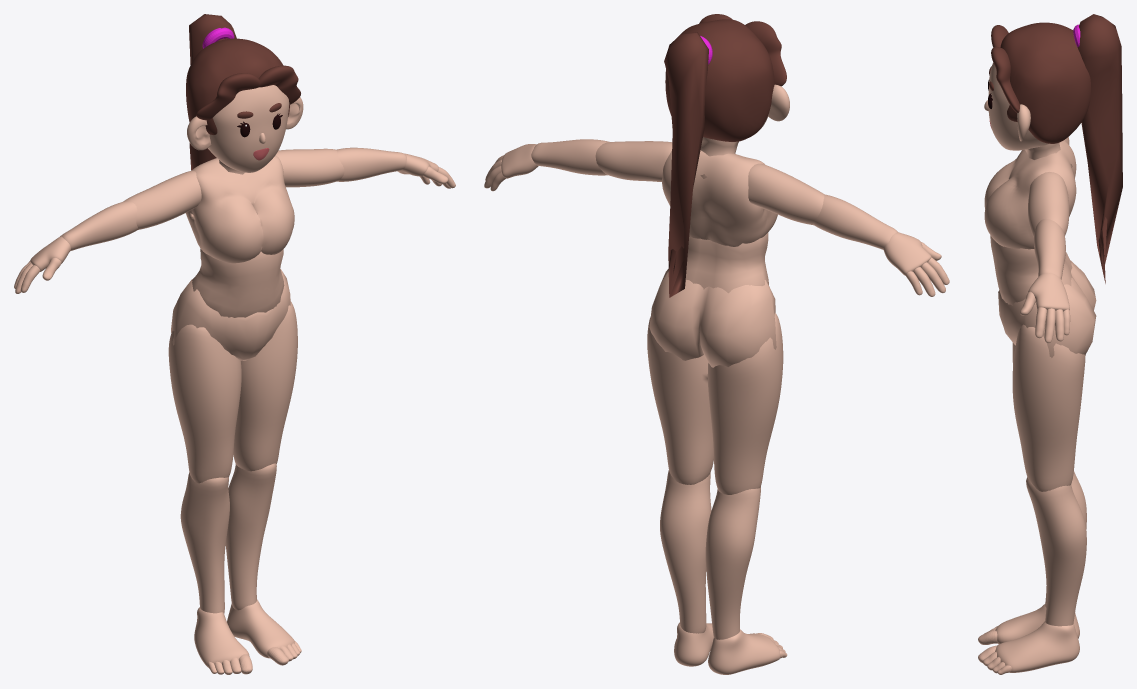
The model's file is female_model5.glb.
The picture shows the model from 3 angles, left to right: view 1: azimuth 30°, elevation 25°; view 2: azimuth 150°, elevation 25°; view 3: azimuth 270°, elevation 25°; orthographic projection. The views are drawn at different scales.
Visible parts, largest first — view 1: leg.003, chest 1.003, foot.003, arm.003, head.004, pelvis.003, arm 2.003, Icosphere.007, hand.003, Cube.016, Icosphere.008, ears.004; view 2: leg.003, chest 1.003, pelvis.003, Icosphere.007, Icosphere.008, arm.003, arm 2.003, hand.003, foot.003, Cube.016; view 3: leg.003, Icosphere.007, Icosphere.008, chest 1.003, foot.003, pelvis.003, hand.003, arm.003, head.004, arm 2.003, Cube.016, ears.004 (+1 smaller).
Boxes of the visible parts, <box> form: leg.003: <box>168,301,297,613</box>; chest 1.003: <box>185,155,294,317</box>; foot.003: <box>194,599,301,674</box>; arm.003: <box>123,148,344,229</box>; head.004: <box>208,85,289,172</box>; pelvis.003: <box>171,269,290,360</box>; arm 2.003: <box>60,147,406,250</box>; Icosphere.007: <box>186,38,289,134</box>; hand.003: <box>14,153,455,293</box>; Cube.016: <box>196,65,300,120</box>; Icosphere.008: <box>189,14,236,170</box>; ears.004: <box>187,97,303,150</box>; leg.003: <box>647,313,783,639</box>; chest 1.003: <box>662,150,777,293</box>; pelvis.003: <box>649,269,776,367</box>; Icosphere.007: <box>665,19,774,141</box>; Icosphere.008: <box>664,32,708,297</box>; arm.003: <box>595,141,824,225</box>; arm 2.003: <box>531,139,897,249</box>; hand.003: <box>484,144,949,296</box>; foot.003: <box>674,622,787,674</box>; Cube.016: <box>699,14,786,86</box>; leg.003: <box>1012,324,1086,626</box>; Icosphere.007: <box>1000,22,1090,143</box>; Icosphere.008: <box>1077,14,1122,283</box>; chest 1.003: <box>984,140,1076,305</box>; foot.003: <box>978,604,1079,674</box>; pelvis.003: <box>998,260,1096,357</box>; hand.003: <box>1020,273,1070,343</box>; arm.003: <box>1028,137,1069,237</box>; head.004: <box>988,62,1048,150</box>; arm 2.003: <box>1034,218,1065,279</box>; Cube.016: <box>991,25,1019,112</box>; ears.004: <box>1017,104,1030,141</box>.
Bounding box in the file's own units: 15.64 × 21.11 × 4.35.
